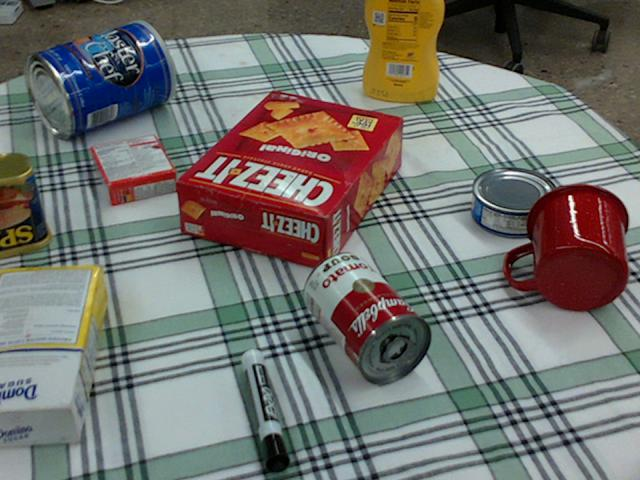cracker_box: (174, 90, 404, 270)
gelatin_box: (90, 133, 178, 206)
large_marker: (242, 349, 288, 475)
master_chef_can: (25, 20, 175, 140)
mug: (505, 183, 629, 310)
mustard_bottle: (362, 0, 444, 102)
potted_meat_can: (0, 151, 52, 257)
sugar_box: (0, 265, 103, 446)
tomato_soup_can: (303, 249, 431, 383)
tuna_fish_can: (472, 166, 559, 237)
